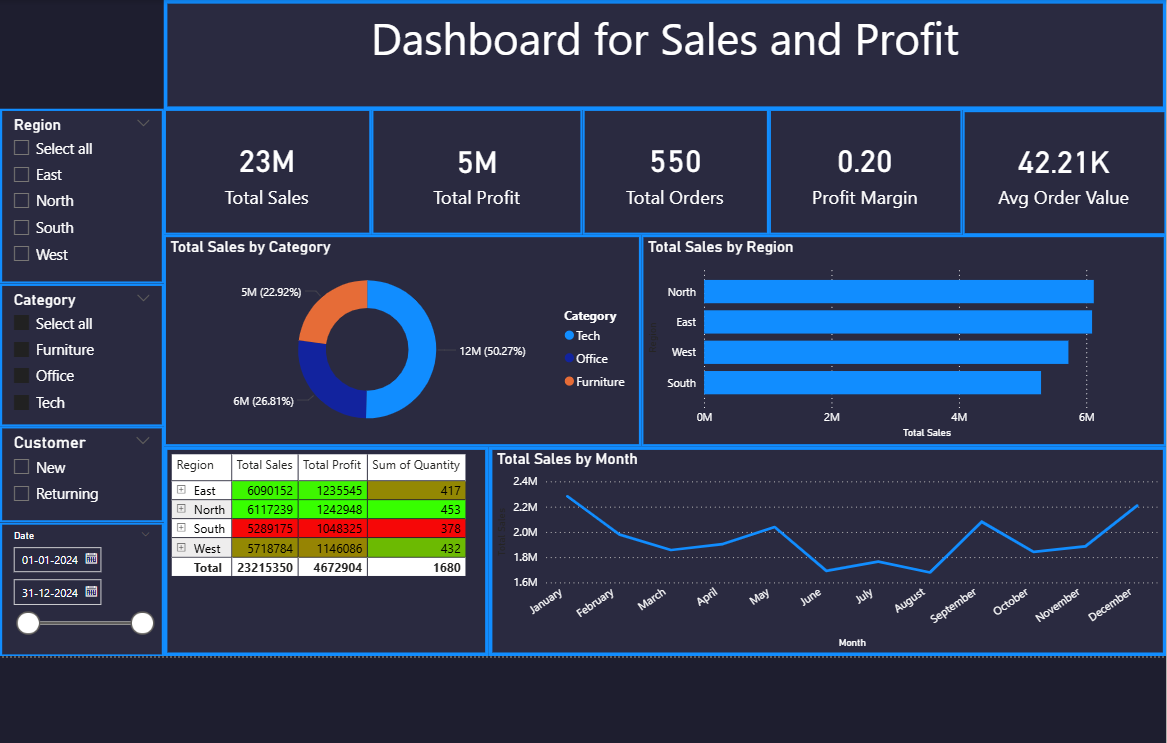

What the dashboard file says about the page in this screenshot:
{"tool":"powerbi","page":{"name":"Page 1","canvas":[1280,720],"ordinal":0},"visuals":[{"type":"card","fields":{"Values":["Sales_Data.Total Sales"]},"box":[179.8,119.4,227.8,138.6],"z":0},{"type":"card","fields":{"Values":["Sales_Data.Total Profit"]},"box":[407.5,119.4,231.9,138.6],"z":1000},{"type":"card","fields":{"Values":["Sales_Data.Profit Margin"]},"box":[843.9,119.4,212.7,138.6],"z":2000},{"type":"card","fields":{"Values":["Sales_Data.Total Orders"]},"box":[639.5,119.4,204.5,138.6],"z":3000},{"type":"card","fields":{"Values":["Sales_Data.Avg Order Value"]},"box":[1056.6,120.8,223.7,137.2],"z":4000},{"type":"clusteredBarChart","fields":{"Category":["Sales_Data.Region"],"Y":["Sales_Data.Total Sales"]},"box":[703.9,258,576.3,231.9],"z":5000},{"type":"donutChart","fields":{"Category":["Sales_Data.Category"],"Y":["Sales_Data.Total Sales"]},"box":[179.8,258,524.2,231.9],"z":6000},{"type":"lineChart","fields":{"Y":["Sales_Data.Total Sales"],"Category":["Sales_Data.Date.Variation.Date Hierarchy.Month"]},"box":[536.5,489.9,743.7,230.5],"z":7000},{"type":"pivotTable","fields":{"Rows":["Sales_Data.Region","Sales_Data.Product"],"Values":["Sales_Data.Total Sales","Sales_Data.Total Profit","Sum(Sales_Data.Quantity)"]},"box":[179.8,489.9,356.8,230.5],"z":8000},{"type":"slicer","fields":{"Values":["Sales_Data.Region"]},"box":[0,119.4,179.8,192.1],"z":9000},{"type":"slicer","fields":{"Values":["Sales_Data.Category"]},"box":[0,311.5,179.8,156.4],"z":10000},{"type":"slicer","fields":{"Values":["Sales_Data.Customer_Type"]},"box":[0,467.9,179.8,105.7],"z":11000},{"type":"slicer","fields":{"Values":["Sales_Data.Date"]},"box":[0,573.6,179.8,146.8],"z":12000},{"type":"textbox","box":[179.8,0,1100.5,120.8],"z":13000}]}

Visuals, with their boxes in screenshot pixels (x1, y1, x2, y2):
card - Sales_Data.Total Sales: box=[168, 107, 373, 232]
card - Sales_Data.Total Profit: box=[372, 107, 581, 232]
card - Sales_Data.Profit Margin: box=[765, 107, 956, 232]
card - Sales_Data.Total Orders: box=[581, 107, 765, 232]
card - Sales_Data.Avg Order Value: box=[956, 109, 1157, 232]
clusteredBarChart - Sales_Data.Region x Sales_Data.Total Sales: box=[639, 232, 1157, 440]
donutChart - Sales_Data.Category x Sales_Data.Total Sales: box=[168, 232, 639, 440]
lineChart - Sales_Data.Total Sales x Sales_Data.Date.Variation.Date Hierarchy.Month: box=[488, 440, 1157, 648]
pivotTable - Sales_Data.Region x Sales_Data.Product: box=[168, 440, 489, 648]
slicer - Sales_Data.Region: box=[6, 107, 168, 280]
slicer - Sales_Data.Category: box=[6, 280, 168, 421]
slicer - Sales_Data.Customer_Type: box=[6, 421, 168, 516]
slicer - Sales_Data.Date: box=[6, 516, 168, 648]
textbox: box=[168, 0, 1157, 109]
